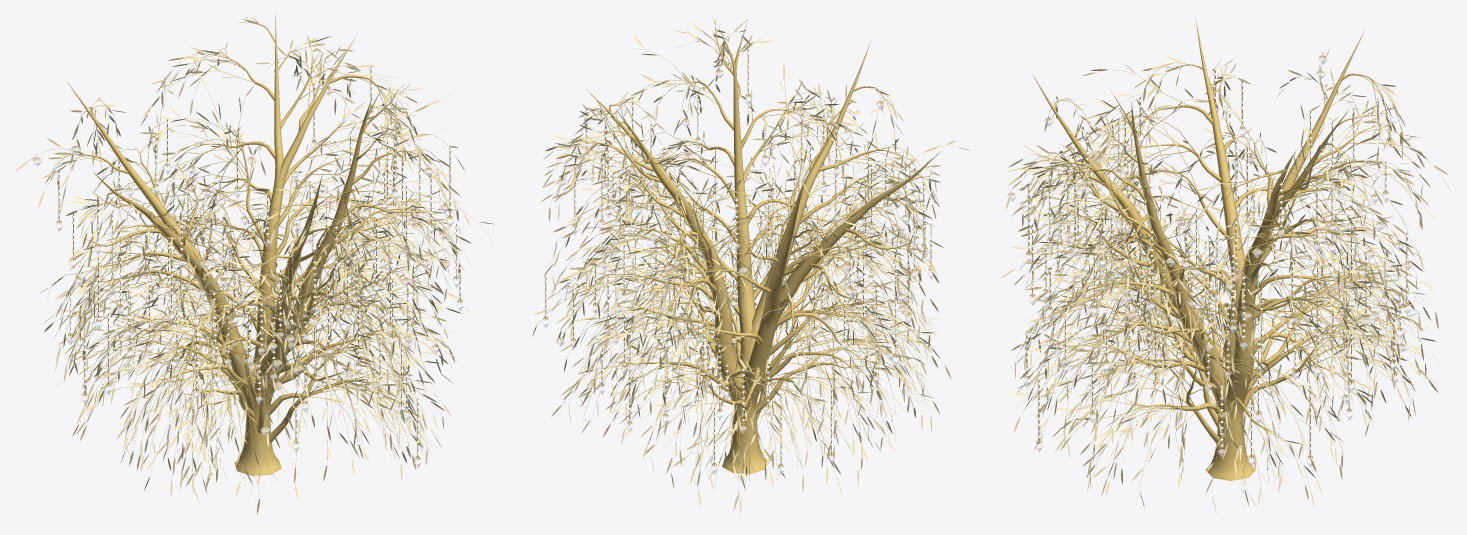
Rendered from houju_yanagi.glb.
3 views of the same model, side by side, from view 1: azimuth 30°, elevation 25°; view 2: azimuth 150°, elevation 25°; view 3: azimuth 270°, elevation 25° (orthographic). The views are drawn at different scales.
Parts seen in each view (by area): view 1: Leaves, Branches2, Trunk, Branches1, gold_wire, pearl_batch, sakura_batch, fuji_batch, gold_fitting, mizu_batch, hari_batch; view 2: Leaves, Branches2, Trunk, Branches1, gold_wire, pearl_batch, mizu_batch, hari_batch, fuji_batch, gold_fitting, sakura_batch; view 3: Leaves, Branches2, Trunk, Branches1, gold_wire, pearl_batch, fuji_batch, sakura_batch, gold_fitting, hari_batch, mizu_batch.
Boxes of the visible parts, bbox=[...] form: Leaves: bbox=[15, 19, 494, 514]; Branches2: bbox=[40, 24, 493, 495]; Trunk: bbox=[67, 14, 382, 475]; Branches1: bbox=[66, 17, 432, 442]; gold_wire: bbox=[58, 65, 460, 459]; pearl_batch: bbox=[57, 67, 461, 454]; sakura_batch: bbox=[55, 87, 450, 468]; fuji_batch: bbox=[32, 113, 453, 435]; gold_fitting: bbox=[34, 87, 462, 460]; mizu_batch: bbox=[70, 145, 463, 452]; hari_batch: bbox=[57, 79, 461, 449]; Leaves: bbox=[532, 20, 969, 513]; Branches2: bbox=[534, 31, 956, 499]; Trunk: bbox=[586, 22, 940, 473]; Branches1: bbox=[587, 18, 931, 448]; gold_wire: bbox=[545, 49, 931, 466]; pearl_batch: bbox=[544, 47, 932, 462]; mizu_batch: bbox=[542, 97, 911, 475]; hari_batch: bbox=[544, 58, 932, 462]; fuji_batch: bbox=[555, 101, 934, 474]; gold_fitting: bbox=[543, 70, 931, 467]; sakura_batch: bbox=[557, 69, 928, 433]; Leaves: bbox=[1001, 49, 1451, 513]; Branches2: bbox=[1011, 54, 1441, 511]; Trunk: bbox=[1032, 17, 1364, 480]; Branches1: bbox=[1035, 64, 1387, 448]; gold_wire: bbox=[1026, 70, 1407, 458]; pearl_batch: bbox=[1025, 73, 1408, 449]; fuji_batch: bbox=[1043, 55, 1406, 467]; sakura_batch: bbox=[1025, 115, 1413, 466]; gold_fitting: bbox=[1008, 55, 1411, 458]; hari_batch: bbox=[1025, 85, 1408, 456]; mizu_batch: bbox=[1006, 70, 1410, 423].
Bounding box in the file's own units: 7.63 × 7.5 × 7.5.
